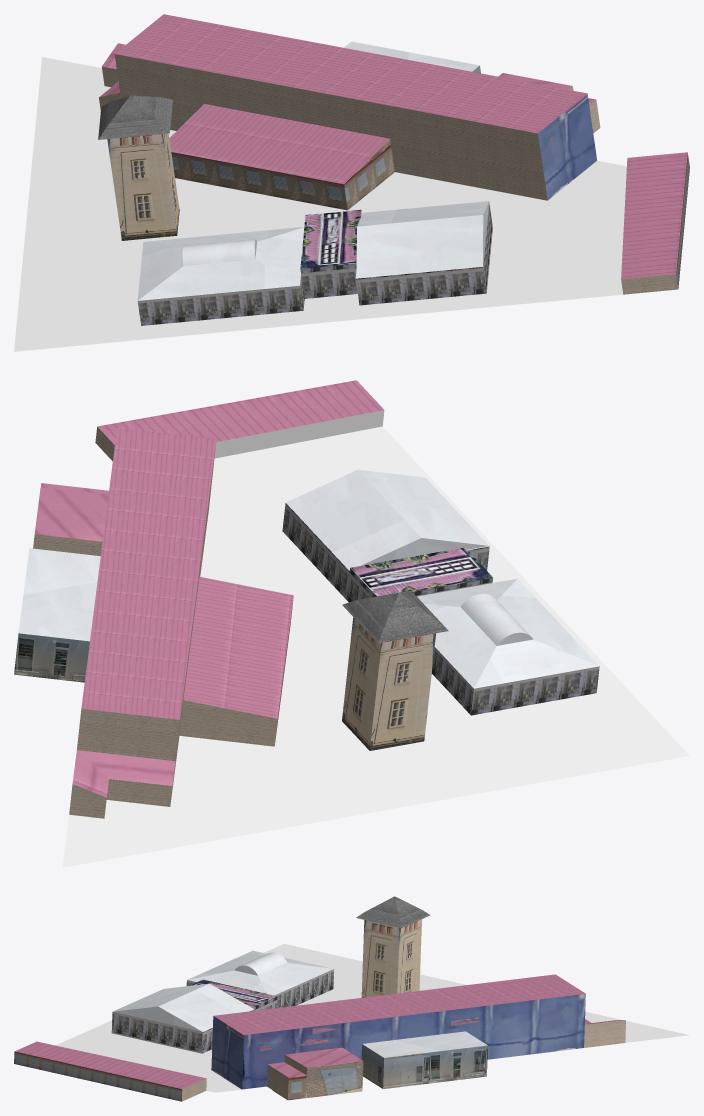
The model's file is Lecu_racejardin1.gltf.
3 renders of one model, top to bottom at view 1: azimuth 30°, elevation 25°; view 2: azimuth 150°, elevation 25°; view 3: azimuth 270°, elevation 25°, orthographic. The views are drawn at different scales.
Visible parts, largest first — view 1: race_torre; view 2: race_torre; view 3: race_torre.
Boxes of the visible parts, x1,y1,x2,y2 form: race_torre: (14, 14, 689, 351); race_torre: (14, 380, 689, 867); race_torre: (14, 896, 689, 1101).
Size of the model in its own units: 87.96 by 21.58 by 113.
